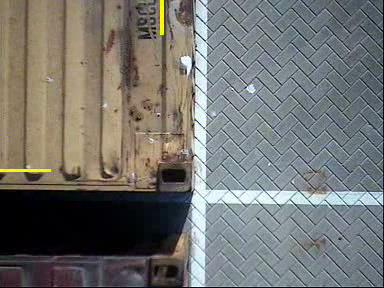groundmarker_2: (160, 188, 239, 238)
